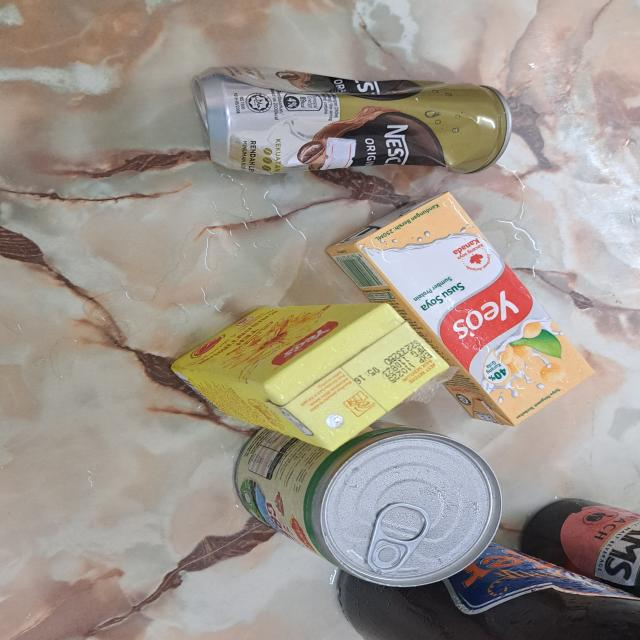can: (236, 418, 496, 592), (190, 62, 518, 176)
drink carton: (315, 188, 600, 424), (167, 302, 445, 449)
glass bottle: (331, 536, 640, 640), (521, 479, 640, 589)
pop tab: (366, 493, 424, 576)
